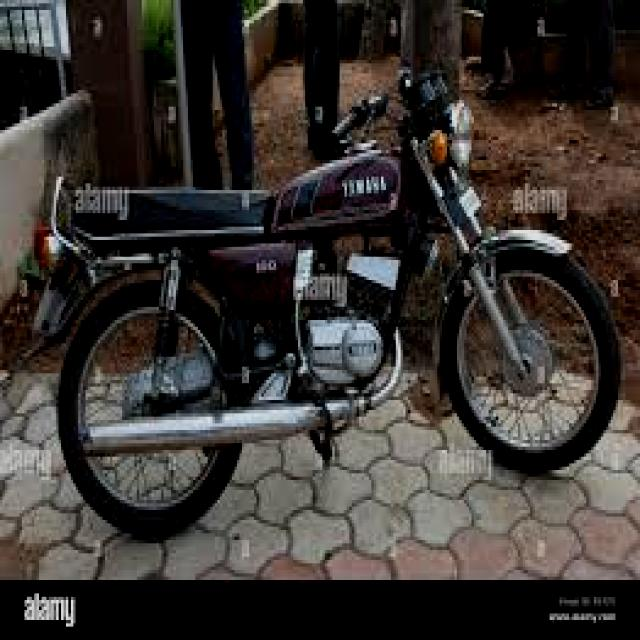MOTORCYCLE: (45, 72, 619, 504)
